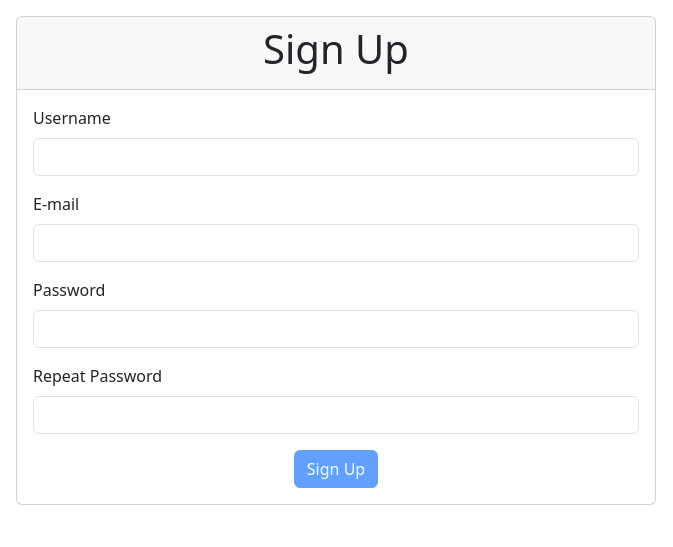
Test: Sign Up Page › Interactions › displays spinner while API request is in progress
The width and height of the screenshot is (673, 547).
In the field labelled "Username": {"x": 336, "y": 157} [33,138,639,176], type "GoodUser"
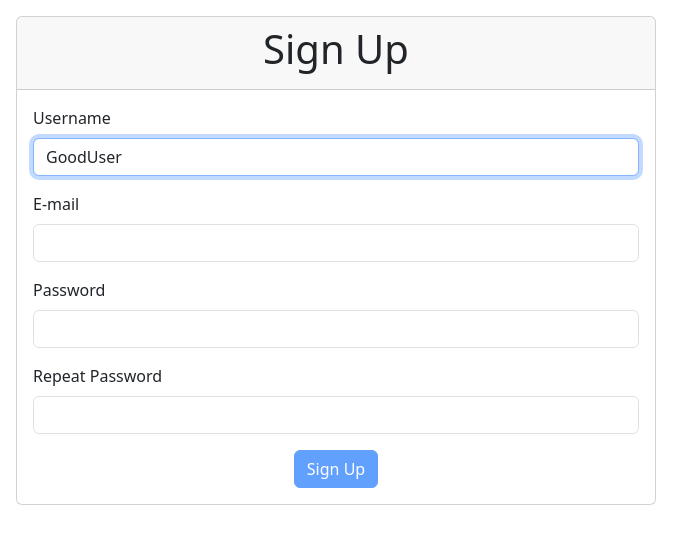
In the field labelled "E-mail": {"x": 336, "y": 243} [33,224,639,262], type "my-email@host.com"
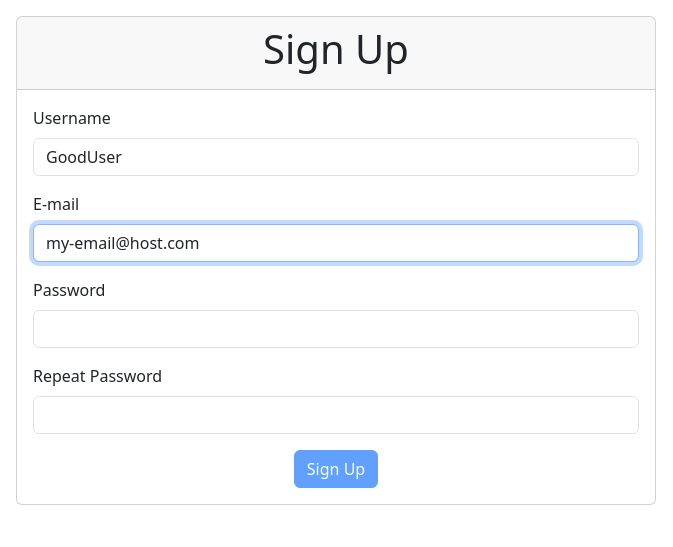
In the password field labelled "Password": {"x": 336, "y": 329} [33,310,639,348], type "myPassword@123"
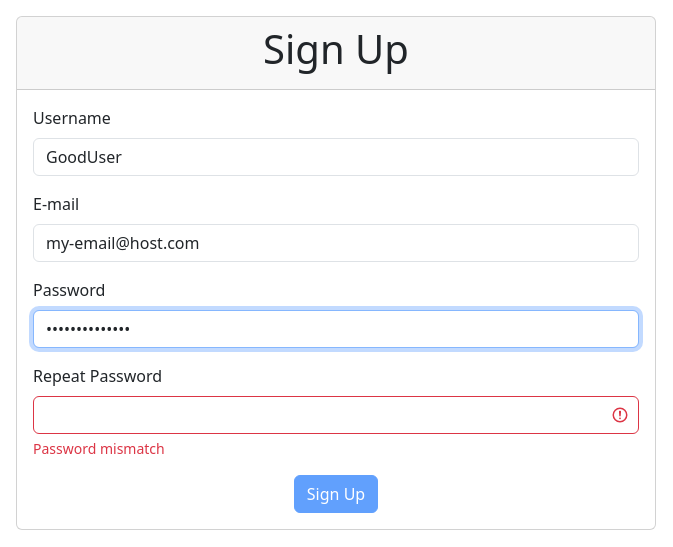
In the password field labelled "Repeat Password": {"x": 336, "y": 415} [33,396,639,434], type "myPassword@123"
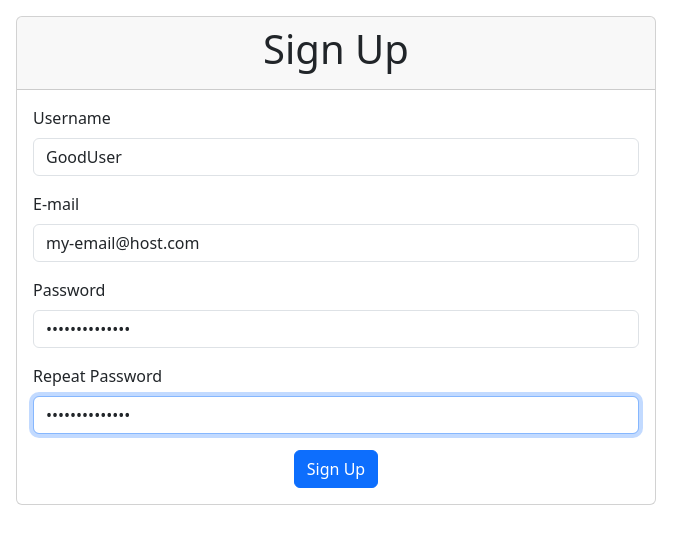
Click the button "Sign Up": {"x": 336, "y": 469} [294,450,378,488]
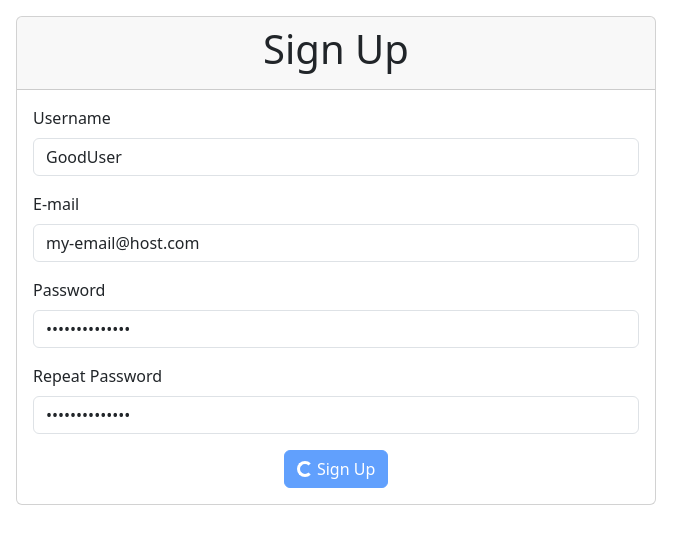
expect the message is shown: met, box [297,461,313,477]
